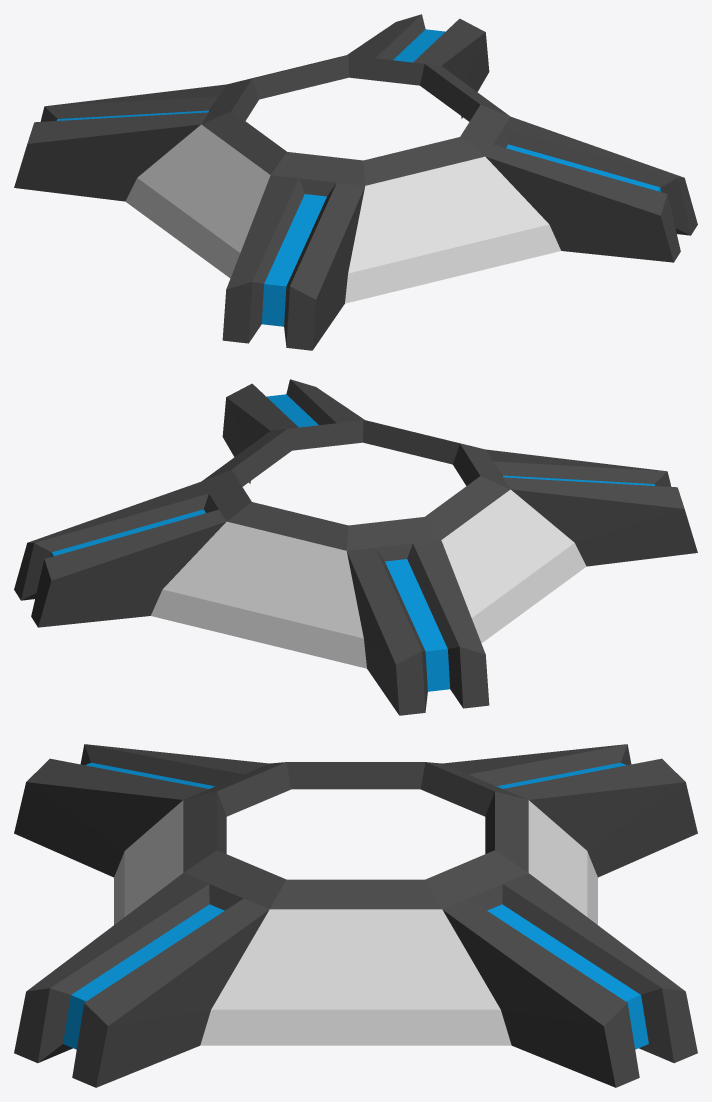
Rendered from staticBase.glb.
The picture shows the model from 3 angles, top to bottom: view 1: azimuth 30°, elevation 25°; view 2: azimuth 150°, elevation 25°; view 3: azimuth 270°, elevation 25°; orthographic projection. The views are drawn at different scales.
Visible parts, largest first — view 1: cardBase; view 2: cardBase; view 3: cardBase.
Boxes of the visible parts, box(x1,y1,x2,y2) form: cardBase: box(14, 14, 697, 350); cardBase: box(14, 379, 697, 715); cardBase: box(14, 744, 697, 1087).
Size of what is drawn, in the model's own units: 1.98 by 0.3917 by 1.98.
1 material, 1 textured.
